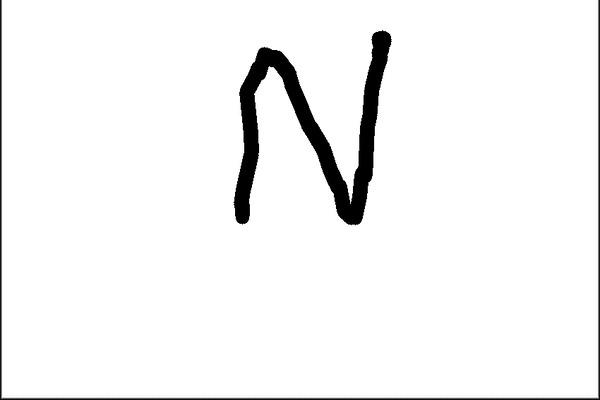N: (228, 28, 394, 229)
